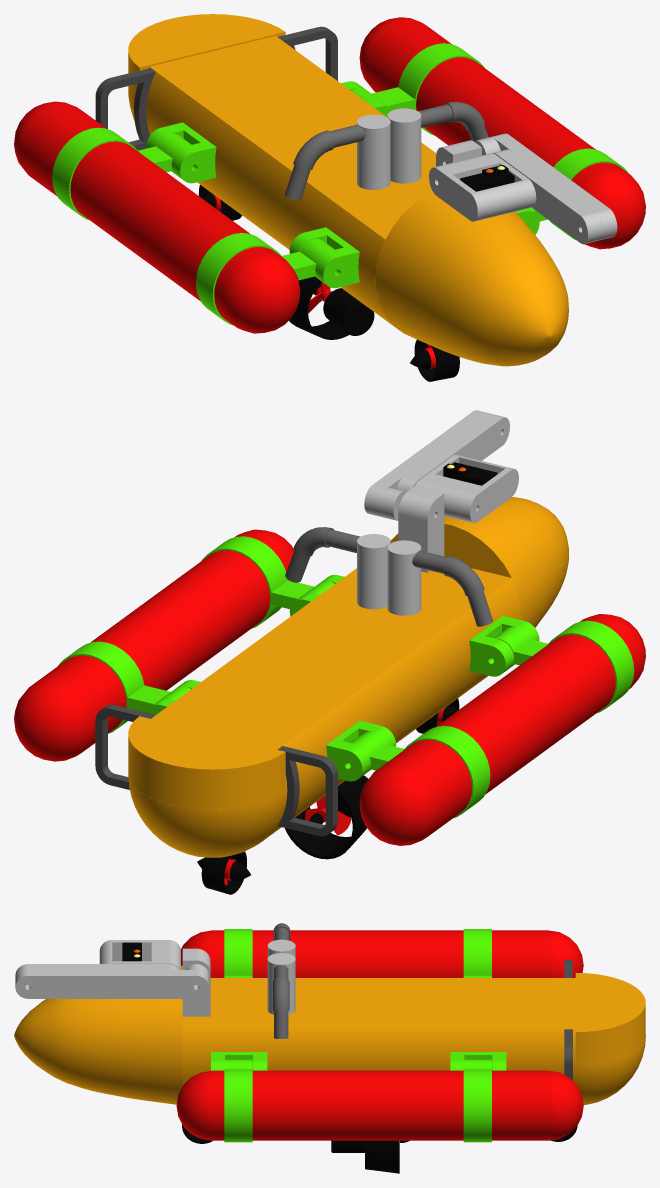
Rendered from Pollux.gltf.
The picture shows the model from 3 angles, top to bottom: view 1: azimuth 30°, elevation 25°; view 2: azimuth 150°, elevation 25°; view 3: azimuth 270°, elevation 25°; orthographic projection. The views are drawn at different scales.
Visible parts, largest first — view 1: AkaFloat (×2), MidBody_Upper, ForeBody_LowerNUpper, Hinge2 (×2), RearBoy_Upper, ControlHandleAxle_Left (×2), Hinge1 (×2), SensorBracketC, MidBody_Lower, ControlHandle_Left (×2), SensorBracketB, SensorBracketA (+9 smaller); view 2: AkaFloat (×2), MidBody_Upper, RearBoy_Upper, ForeBody_LowerNUpper, RearBody_Lower, Hinge1 (×2), Hinge2 (×2), ControlHandleAxle_Left (×2), MidBody_Lower, ControlHandle_Left (×2), SensorBracketC, Handle_Right (+9 smaller); view 3: AkaFloat (×2), MidBody_Upper, ForeBody_LowerNUpper, RearBoy_Upper, SensorBracketA, Hinge1 (×2), Hinge2 (×2), RearBody_Lower, MidBody_Lower, SensorBracketC, ControlHandleAxle_Left (×2), ControlHandle_Left (+8 smaller).
Boxes of the visible parts, box(x1,y1,x2,y2) form: AkaFloat (×2): box(14, 17, 645, 333); MidBody_Upper: box(146, 36, 436, 279); ForeBody_LowerNUpper: box(376, 192, 568, 366); Hinge2 (×2): box(52, 43, 484, 219); RearBoy_Upper: box(128, 14, 285, 102); ControlHandleAxle_Left (×2): box(357, 108, 421, 189); Hinge1 (×2): box(196, 148, 628, 325); SensorBracketC: box(429, 153, 536, 221); MidBody_Lower: box(146, 112, 399, 330); ControlHandle_Left (×2): box(285, 101, 488, 200); SensorBracketB: box(492, 149, 602, 244); SensorBracketA: box(474, 133, 617, 240); AkaFloat (×2): box(14, 529, 645, 845); MidBody_Upper: box(151, 568, 521, 790); RearBoy_Upper: box(128, 716, 285, 809); ForeBody_LowerNUpper: box(390, 497, 568, 627); RearBody_Lower: box(128, 776, 285, 857); Hinge1 (×2): box(201, 536, 634, 712); Hinge2 (×2): box(58, 641, 490, 818); ControlHandleAxle_Left (×2): box(357, 534, 421, 615); MidBody_Lower: box(258, 619, 521, 844); ControlHandle_Left (×2): box(285, 527, 492, 626); SensorBracketC: box(415, 454, 518, 523); Handle_Right: box(277, 746, 337, 836); AkaFloat (×2): box(176, 930, 583, 1140); MidBody_Upper: box(182, 978, 575, 1065); ForeBody_LowerNUpper: box(14, 965, 182, 1104); RearBoy_Upper: box(575, 973, 645, 1065); SensorBracketA: box(15, 964, 209, 998); Hinge1 (×2): box(224, 929, 252, 1142); Hinge2 (×2): box(463, 929, 491, 1142); RearBody_Lower: box(575, 1035, 645, 1104); MidBody_Lower: box(182, 1065, 575, 1085); SensorBracketC: box(99, 940, 180, 969); ControlHandleAxle_Left (×2): box(267, 939, 295, 1014); ControlHandle_Left: box(273, 965, 289, 1038).
Size of the model in its own units: 0.7214 by 0.4438 by 1.13.
